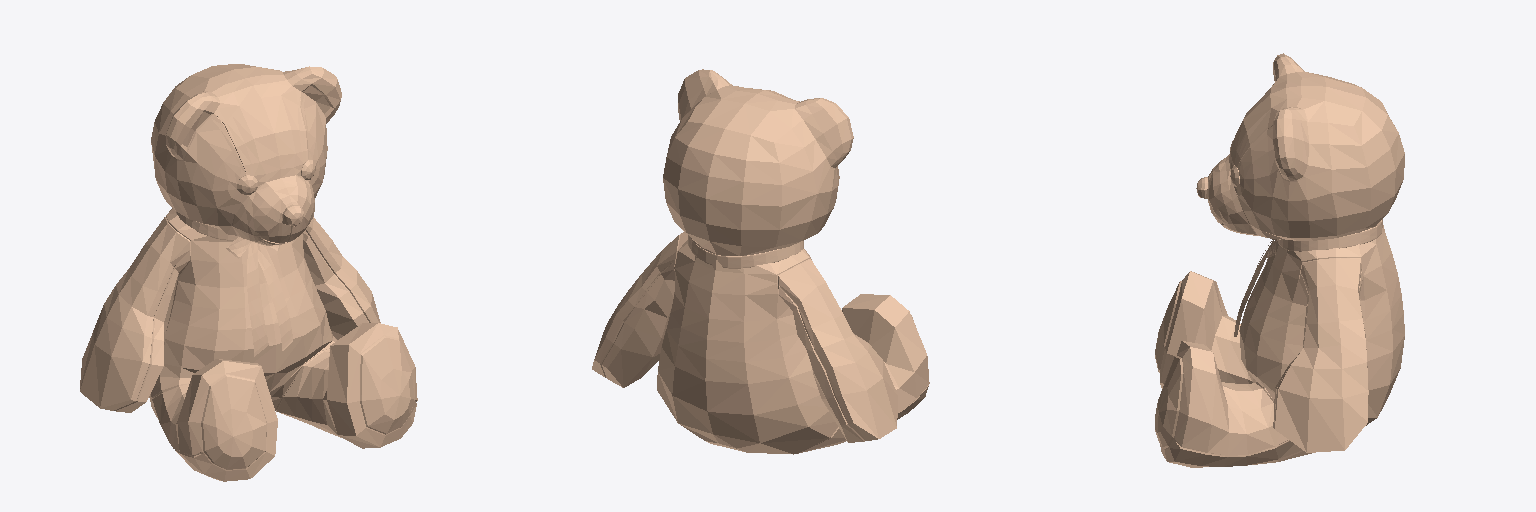
File: TeddyBear.obj
The picture shows the model from 3 angles: view 1: azimuth 30°, elevation 25°; view 2: azimuth 150°, elevation 25°; view 3: azimuth 270°, elevation 25°; orthographic projection.
Visible parts, largest first — view 1: Object001.001; view 2: Object001.001; view 3: Object001.001.
Boxes of the visible parts, <box> form: Object001.001: <box>80,64,417,481</box>; Object001.001: <box>592,69,929,454</box>; Object001.001: <box>1155,53,1404,467</box>.
Bounding box in the file's own units: 6.05 × 6.99 × 4.56.